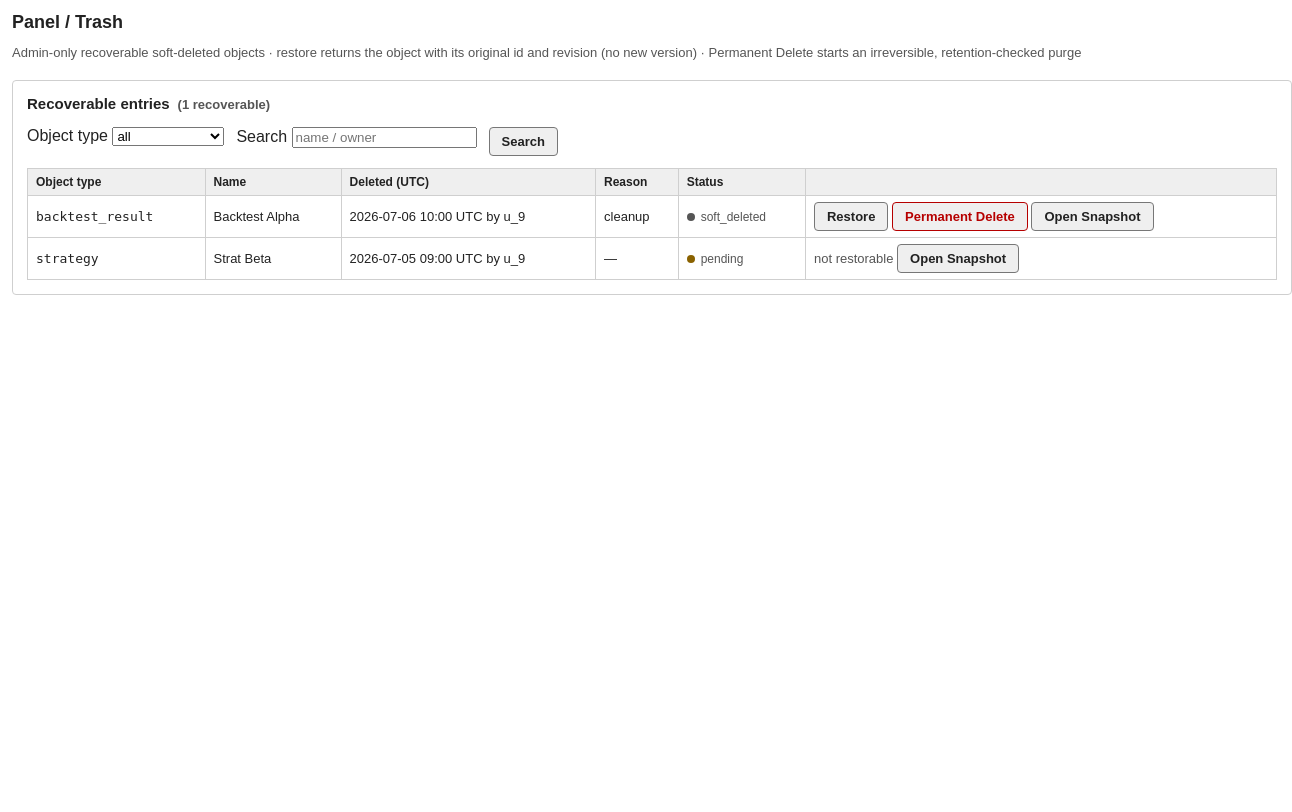
Test: Trash page › opens the UPPER snapshot panel (above the table) with the immutable snapshots
This screenshot has width=1292, height=812.
Expected: the text "Backtest Alpha" is shown, [205, 196, 341, 238]
What coordinates should you click on to do the following:
click the button "Open Snapshot" in the row of "backtest_result"
I would click on:
 (1093, 216)
Its box is [1032, 202, 1154, 231].
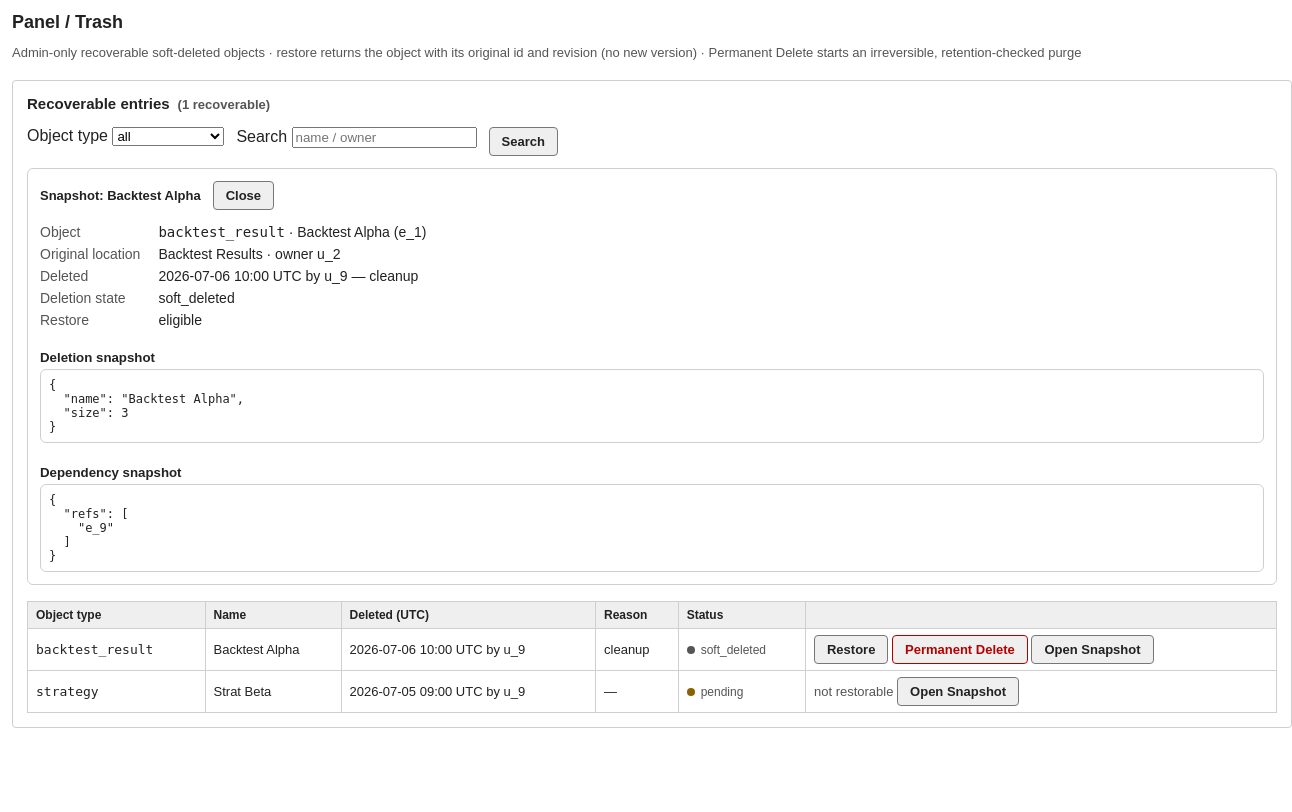
Result: the heading "Deletion snapshot" is shown at [40, 350, 155, 365]
Result: the heading "Dependency snapshot" is shown at [40, 465, 182, 480]
Result: the text "{ \"refs\": [ \"e_9\" ] }" is shown at [40, 484, 1264, 572]
